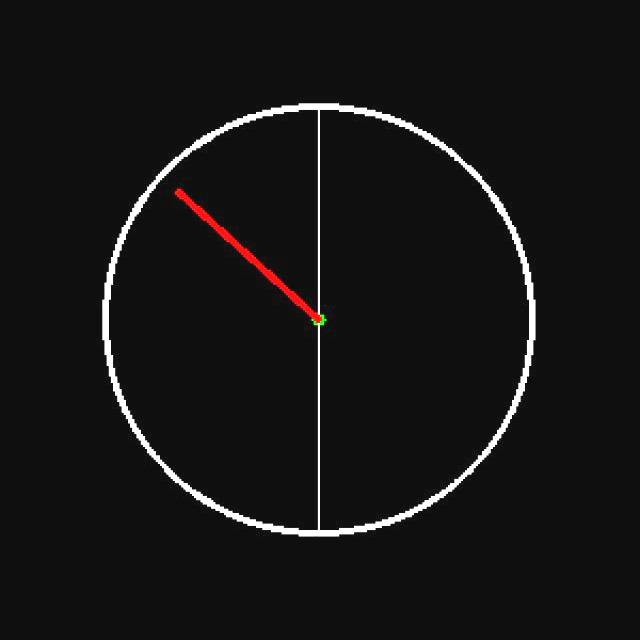Needle_Tip: (159, 173, 210, 215)
Needle_base: (283, 292, 356, 347)
